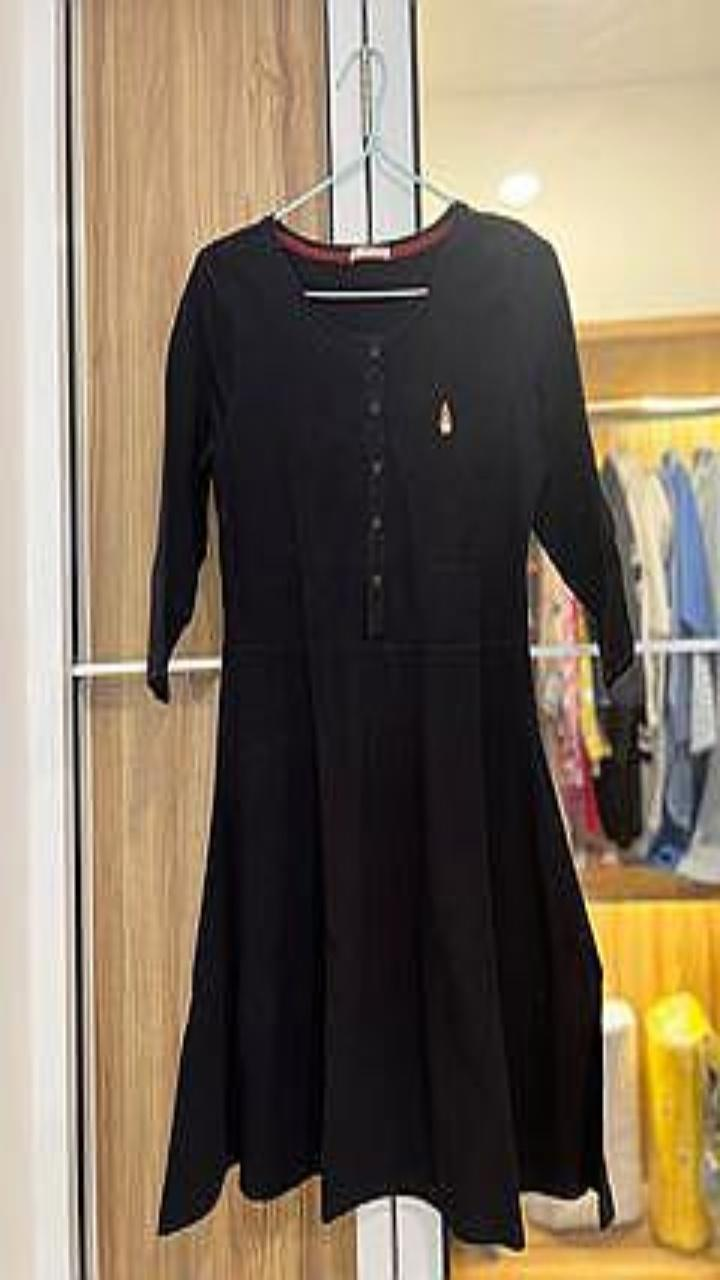Dresses: (147, 201, 632, 1247)
